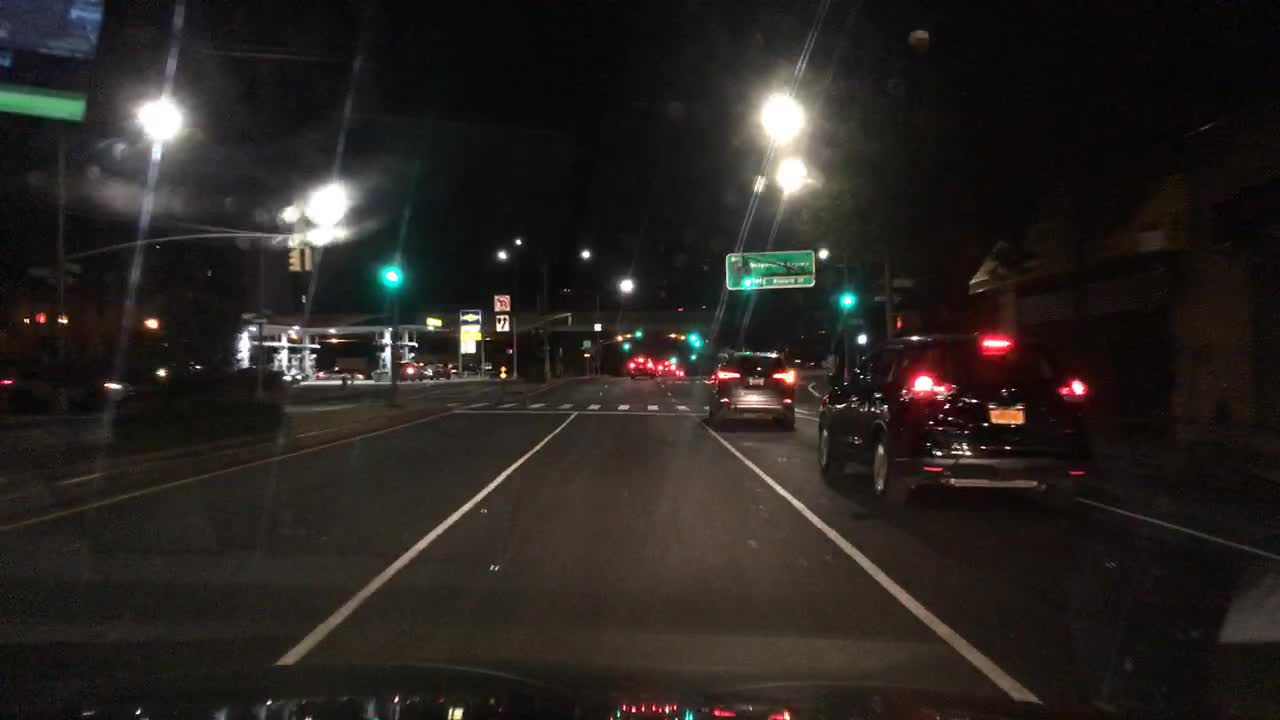car: (815, 326, 1099, 513), (706, 350, 800, 430), (0, 362, 136, 411), (227, 363, 291, 389), (149, 356, 213, 382), (625, 353, 659, 380), (397, 359, 424, 381), (315, 366, 350, 382), (432, 362, 453, 381), (288, 367, 309, 386), (655, 361, 678, 377), (420, 363, 437, 381), (461, 359, 479, 373), (673, 366, 691, 380), (480, 359, 497, 373), (448, 362, 464, 376), (348, 370, 370, 380)
traffic light: (289, 242, 315, 273), (379, 263, 402, 285), (33, 308, 50, 329), (838, 290, 856, 309), (141, 313, 160, 331), (688, 332, 706, 348), (889, 313, 908, 327), (633, 326, 646, 339), (620, 341, 634, 352), (691, 352, 697, 364)
traffic sign: (727, 248, 816, 289), (494, 293, 513, 310), (871, 291, 902, 301), (888, 276, 916, 287), (495, 314, 513, 331), (842, 316, 866, 323), (499, 371, 511, 381), (581, 337, 591, 346), (592, 321, 601, 331), (499, 364, 510, 371)
